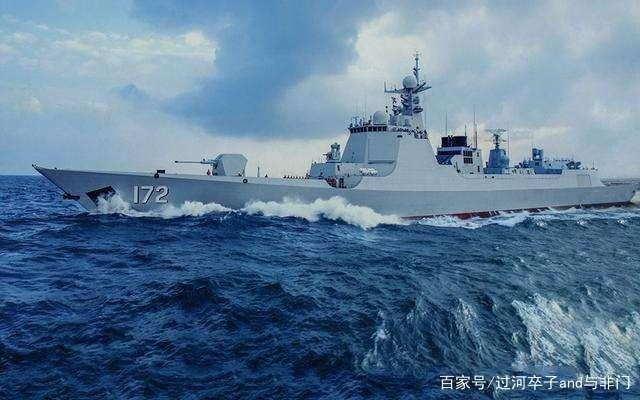warship: (29, 51, 640, 218)
